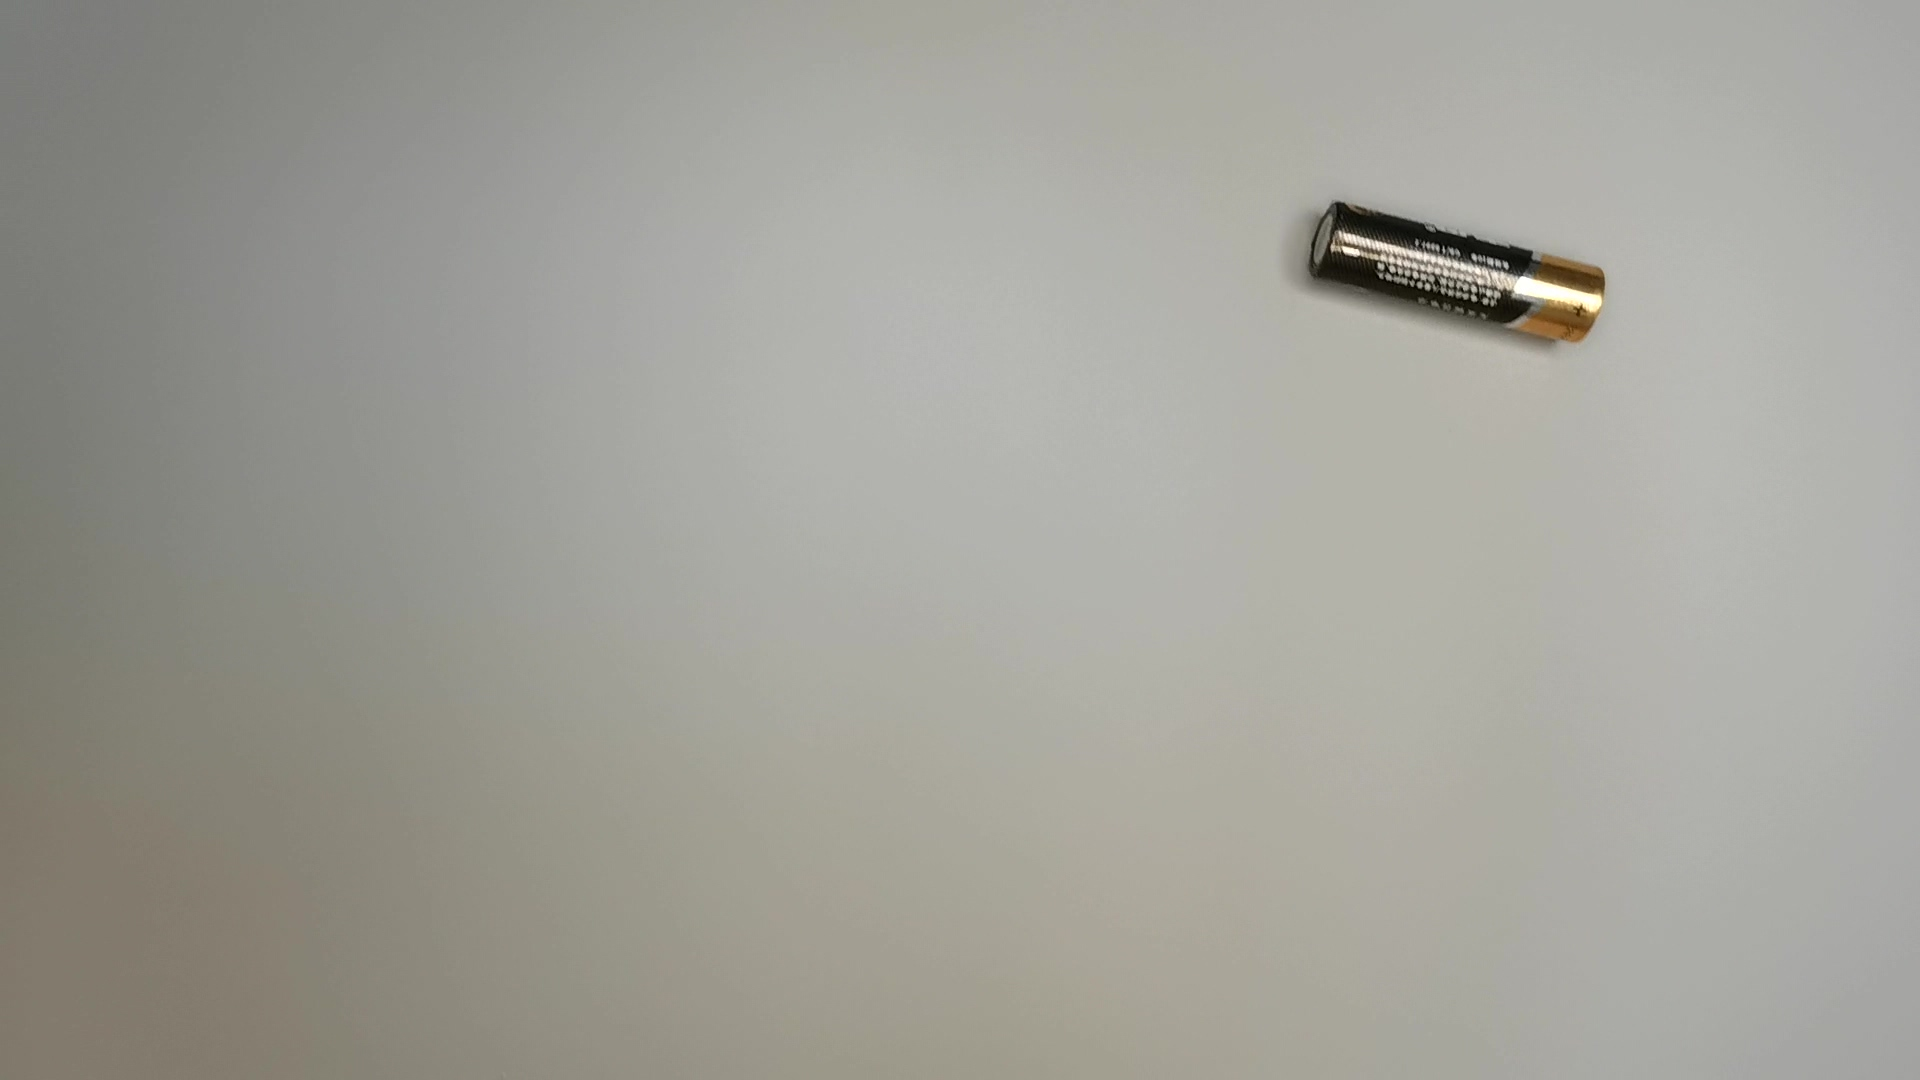battery: (1296, 191, 1610, 357)
